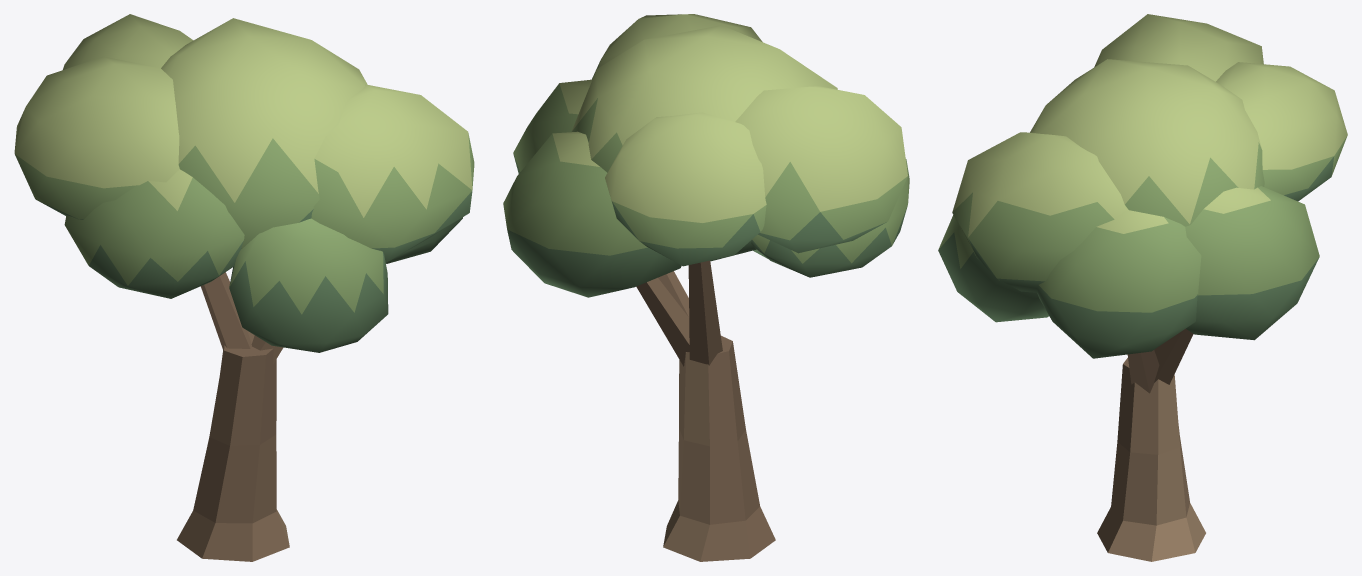
File: Oak_1.glb
The picture shows the model from 3 angles, left to right: view 1: azimuth 30°, elevation 25°; view 2: azimuth 150°, elevation 25°; view 3: azimuth 270°, elevation 25°; orthographic projection. The views are drawn at different scales.
Parts seen in each view (by area): view 1: Oak_1; view 2: Oak_1; view 3: Oak_1.
Boxes of the visible parts, box(x1,y1,x2,y2) form: Oak_1: box(14, 14, 474, 561); Oak_1: box(503, 14, 909, 561); Oak_1: box(938, 14, 1347, 561).
Size of the model in its own units: 0.659 by 0.7949 by 0.6199.
